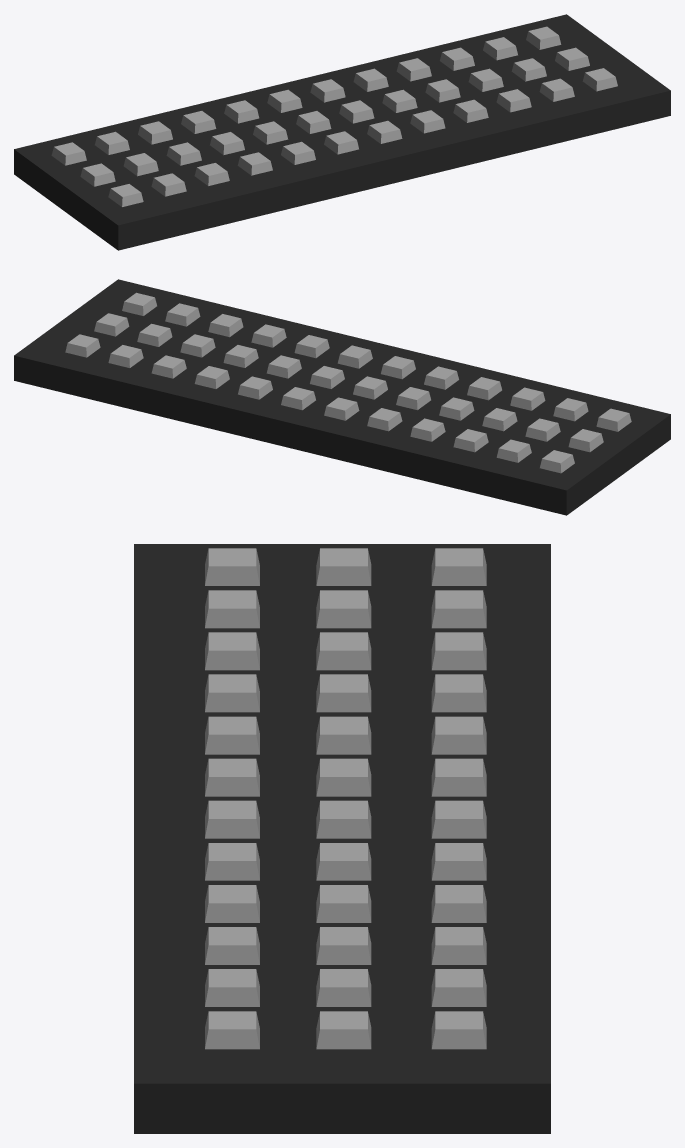
File: Keyboard.fbx
3 renders of one model, top to bottom at view 1: azimuth 30°, elevation 25°; view 2: azimuth 150°, elevation 25°; view 3: azimuth 270°, elevation 25°, orthographic. The views are drawn at different scales.
Parts seen in each view (by area): view 1: Keyboard; view 2: Keyboard; view 3: Keyboard.
Part boxes in pixels (x1,y1,x2,y2): Keyboard: (14, 14, 670, 250); Keyboard: (14, 279, 670, 515); Keyboard: (134, 544, 550, 1133).
Size of the model in its own units: 0.3538 by 0.021 by 0.1155.
